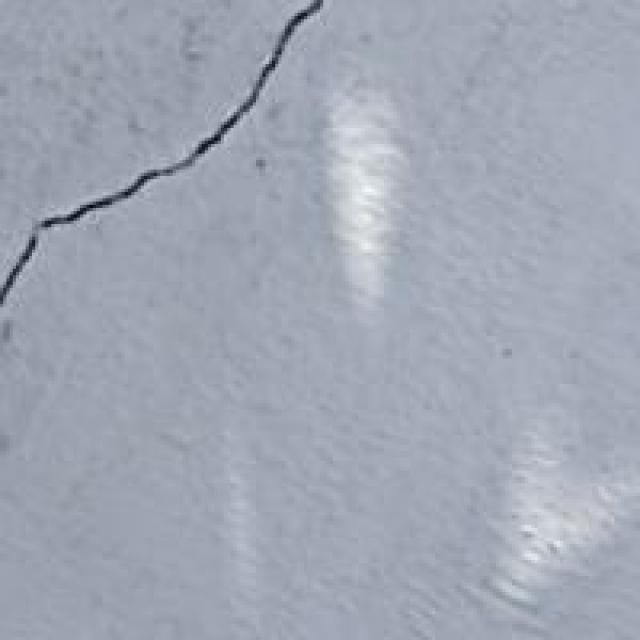crack: (3, 0, 330, 362)
